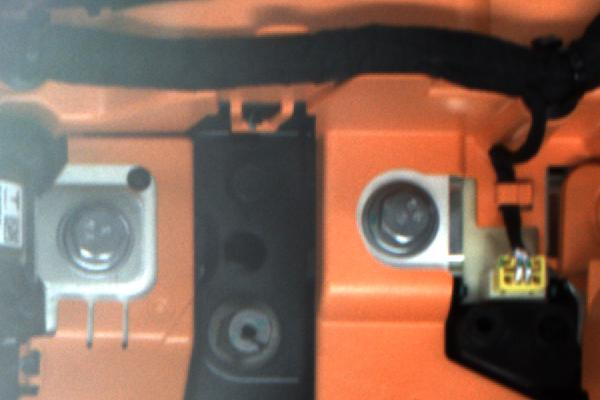nut_b: (46, 196, 143, 283), (360, 174, 445, 268)
